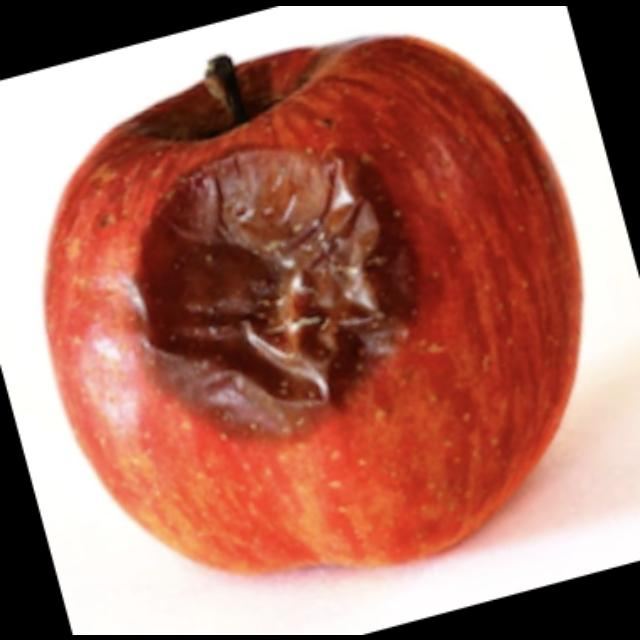Apel Tidak Segar: (41, 41, 584, 582)
